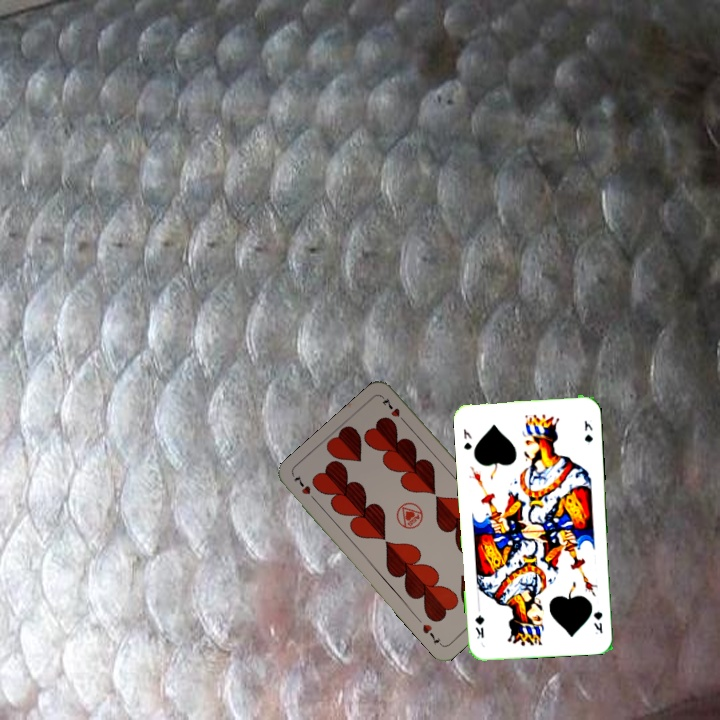GK: (589, 606, 605, 637), (459, 425, 474, 452)
H7: (289, 471, 320, 505)
